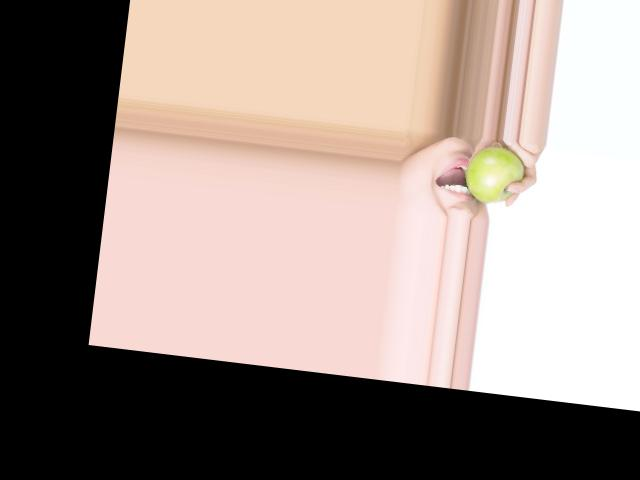apple: (460, 144, 528, 208)
